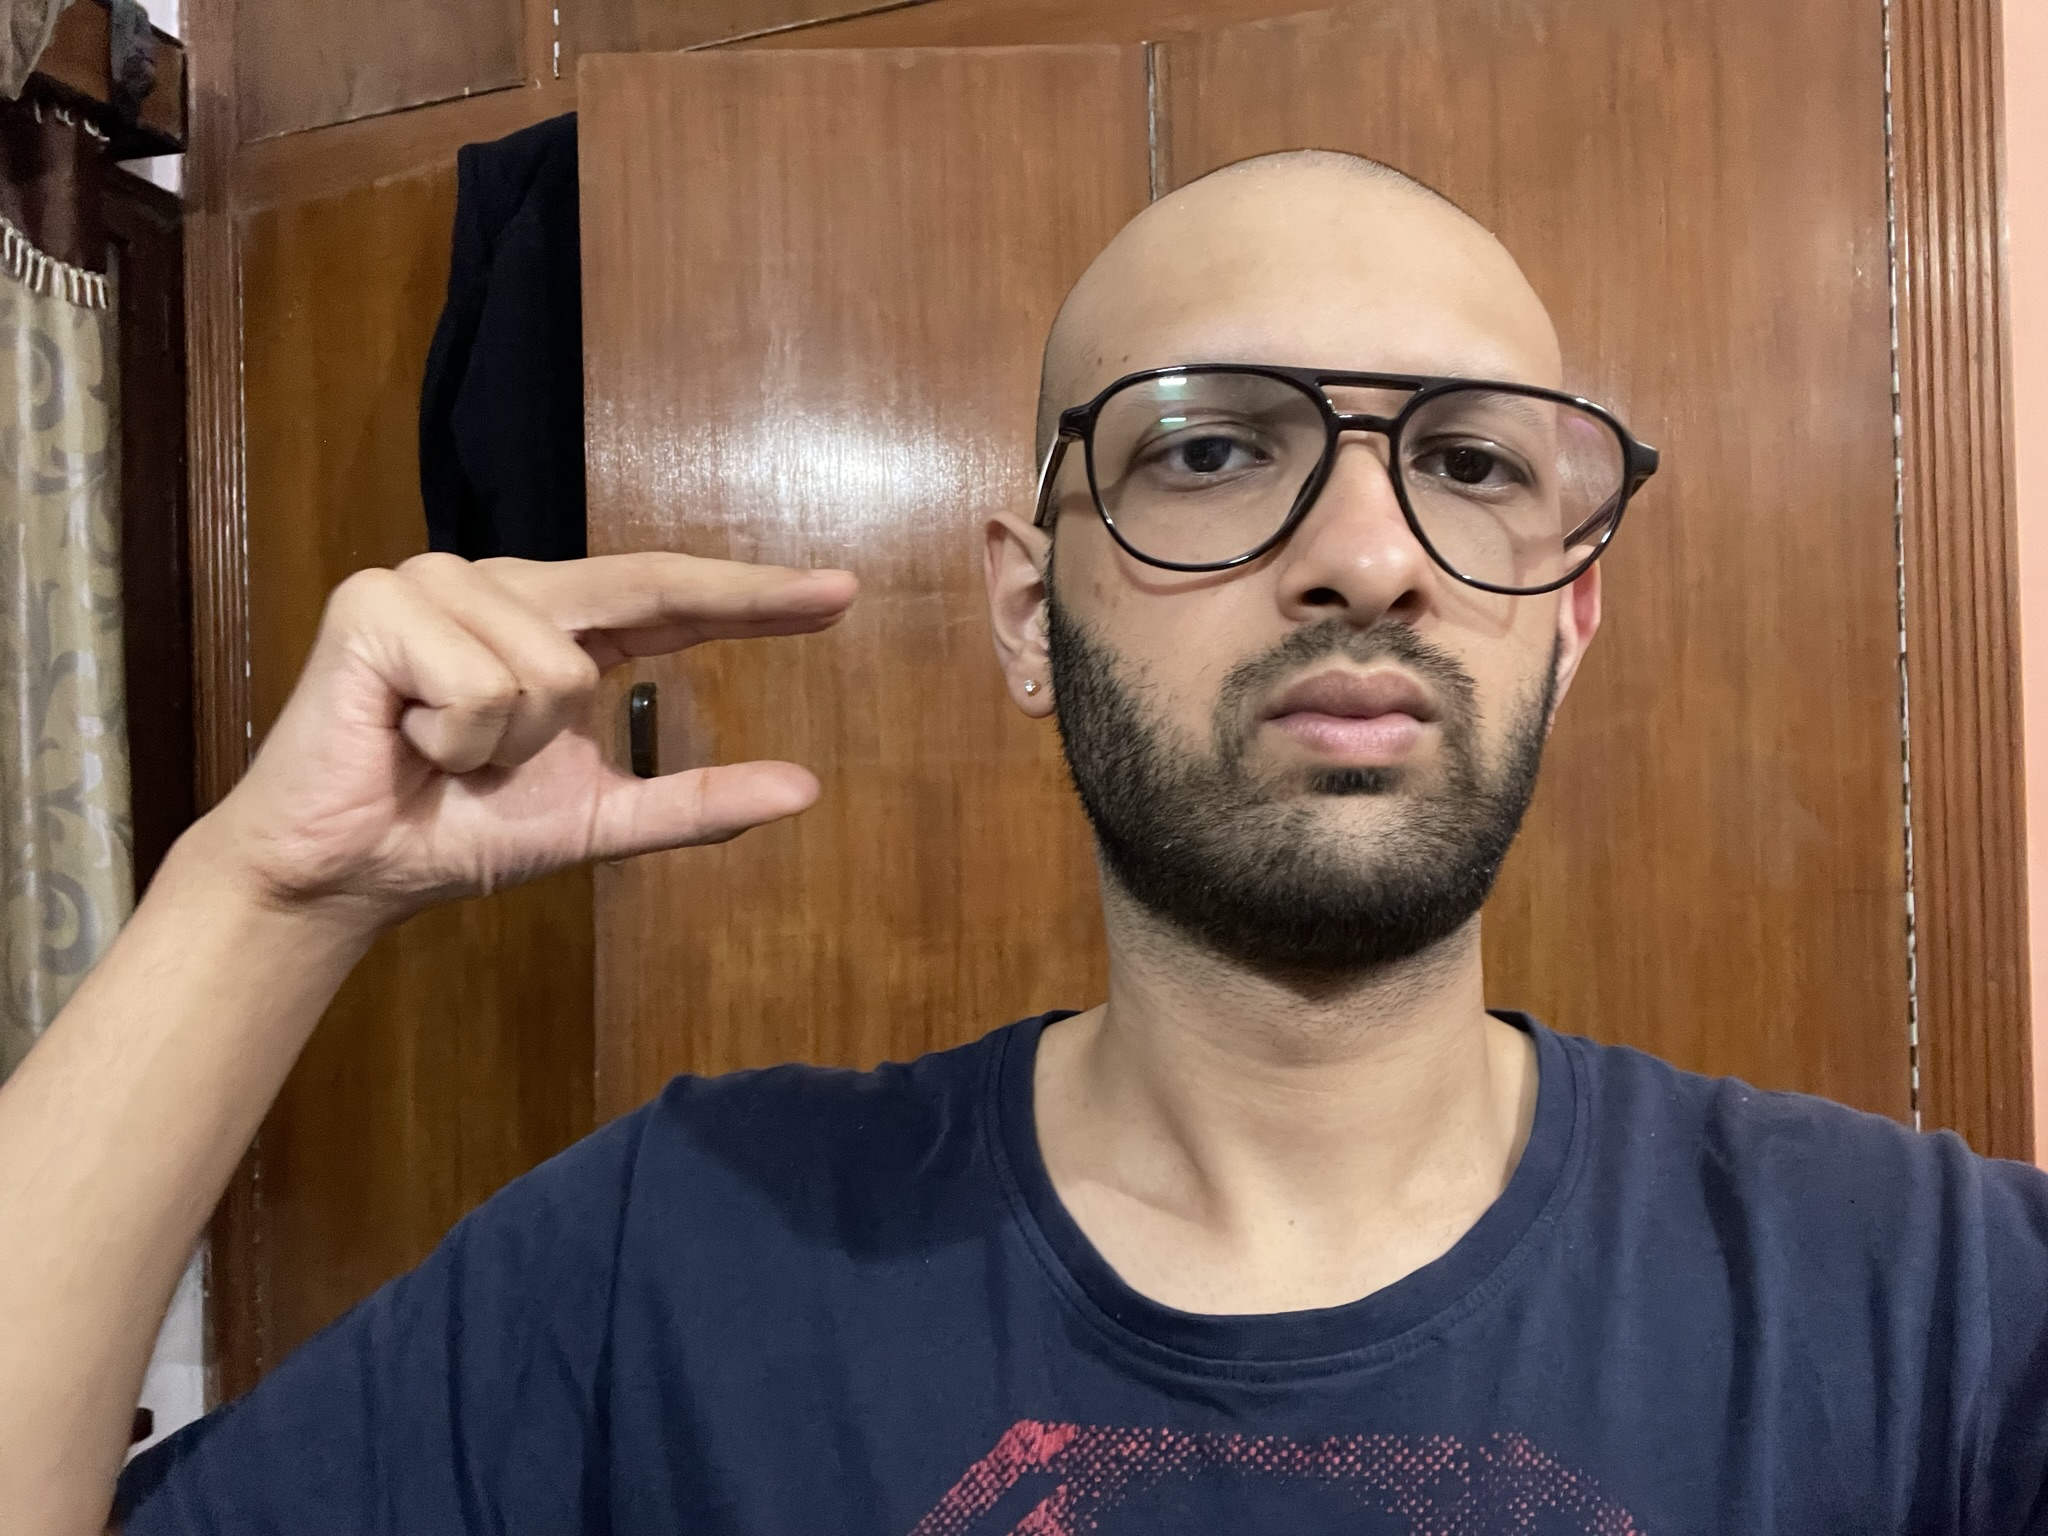No: (219, 550, 871, 904)
